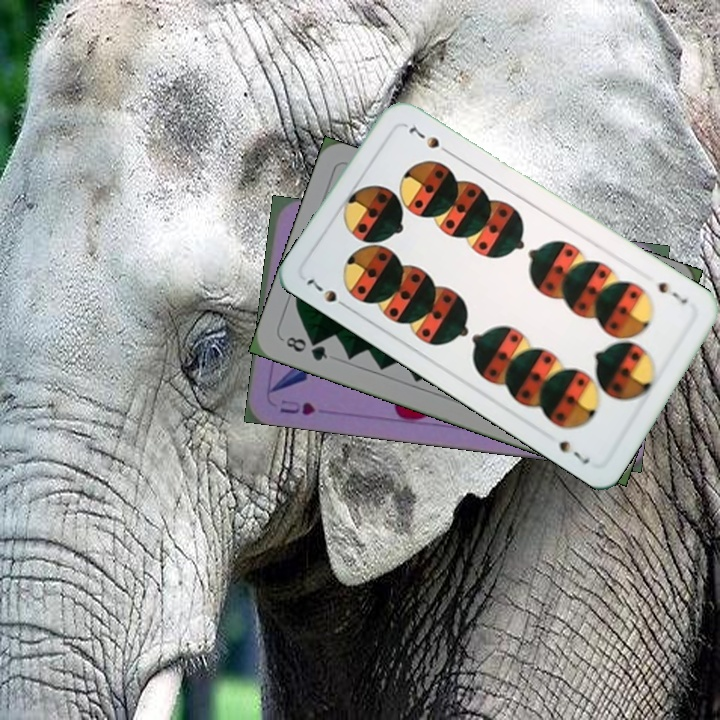G8: (281, 332, 331, 364)
HU: (275, 395, 318, 418)
S7: (303, 274, 353, 313), (654, 277, 691, 307)
